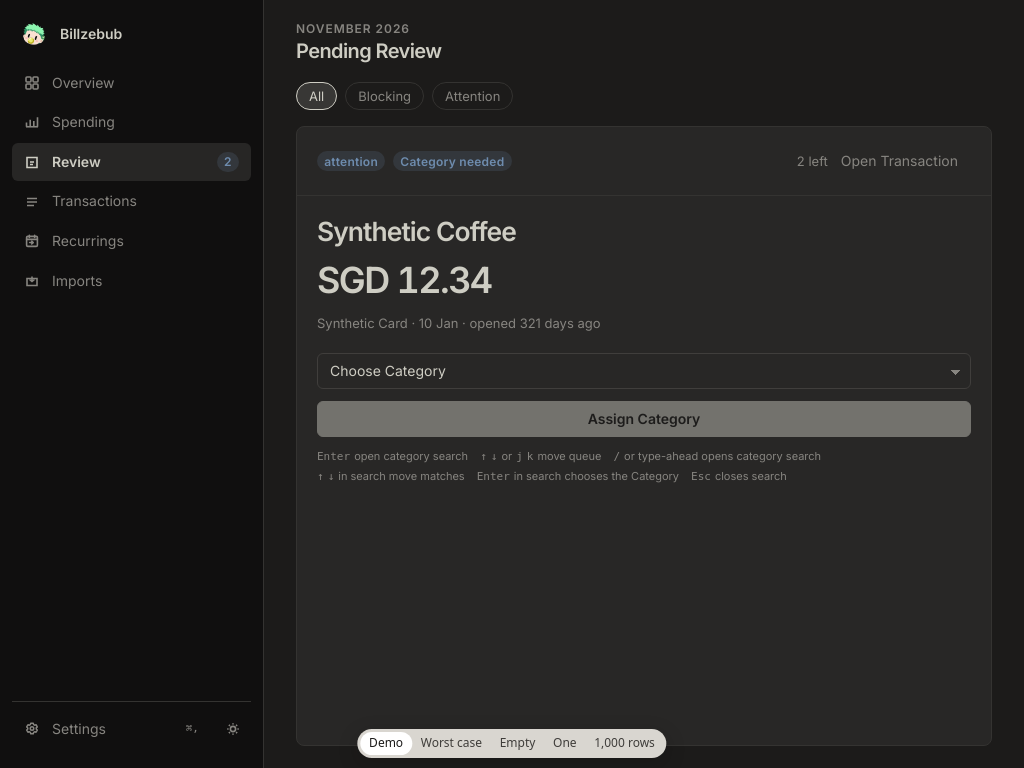
Test: App › advances to the next categorization Review after assign
Expected: the heading "Synthetic Coffee" is shown, [317,215,516,247]
What coordinates should you click on to do the following:
click the button named "Category for Synthetic Coffee"
I would click on:
 (388, 370)
Its box is [317,353,971,389].
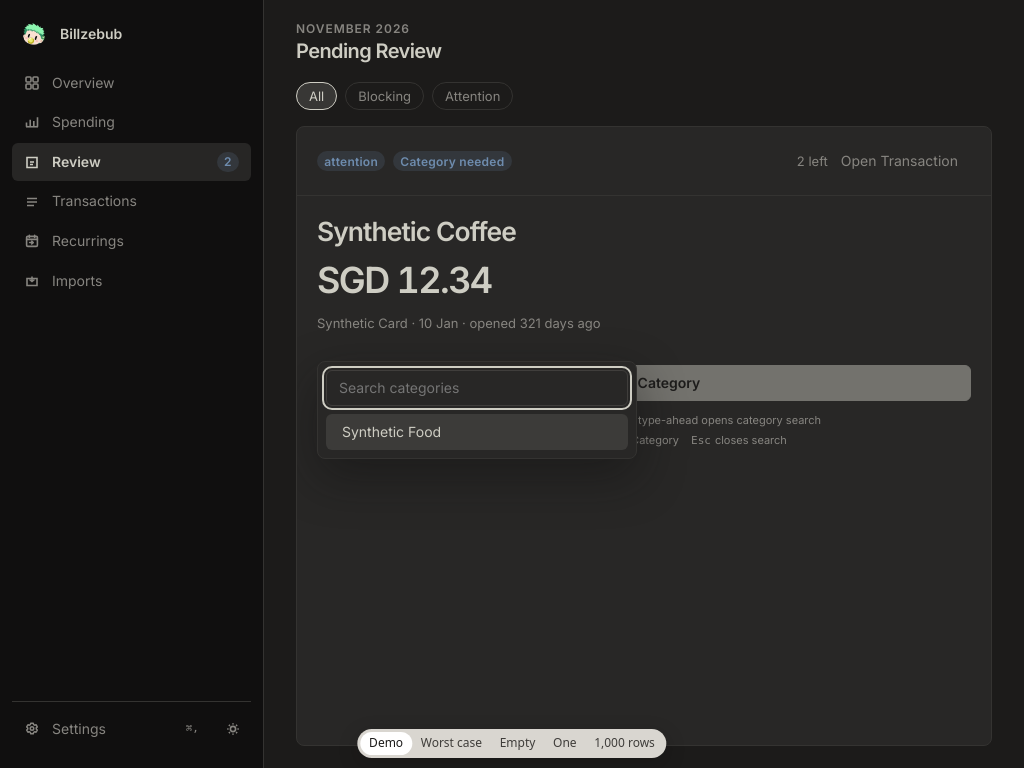
What coordinates should you click on to do the following:
click the option "Synthetic Food"
I would click on:
 (392, 431)
Its box is [326,414,628,450].
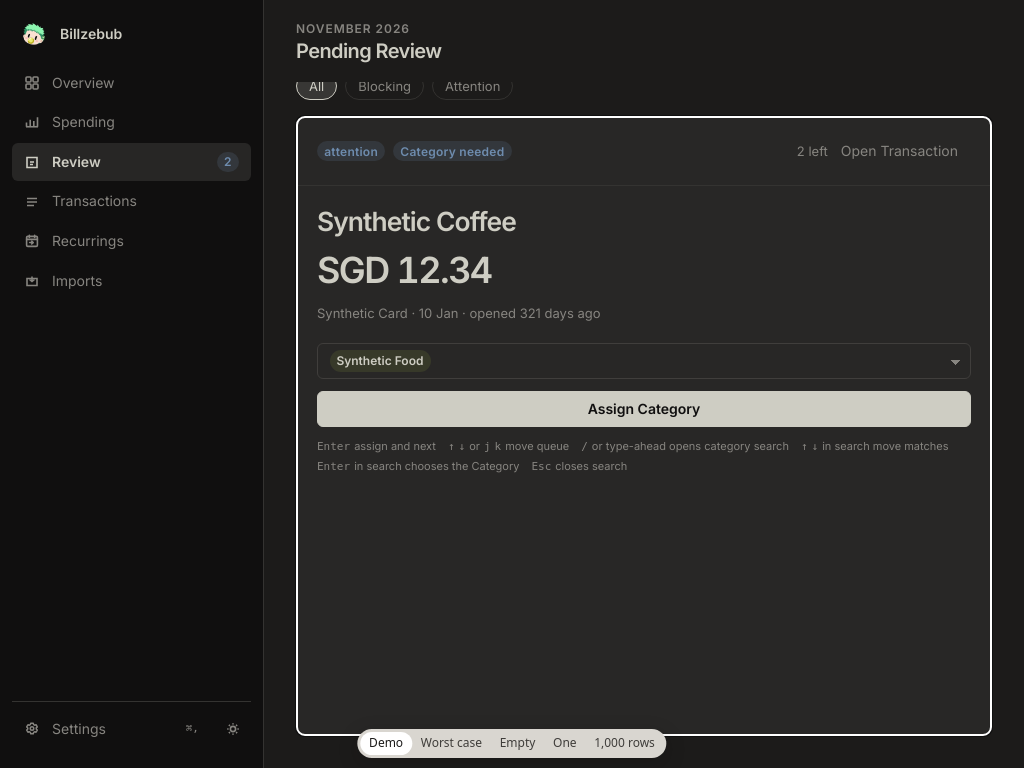
What coordinates should you click on to do the following:
click the button "Assign Category"
I would click on:
 (644, 409)
Its box is [317,391,971,427].
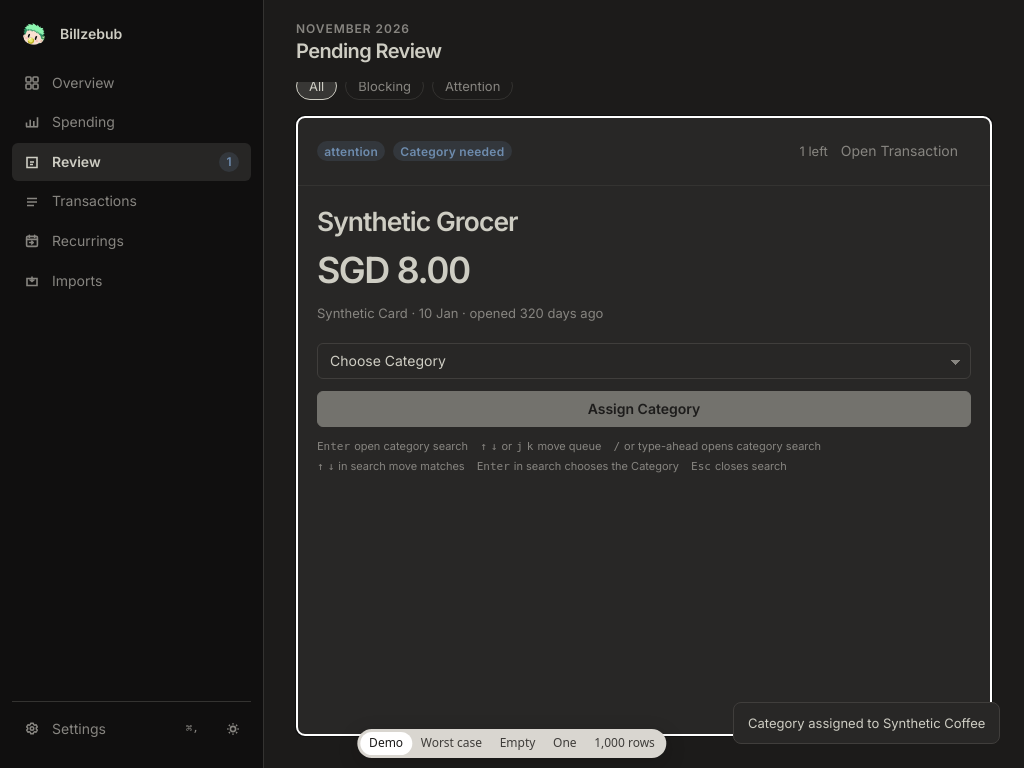
Expected: the heading "Synthetic Grocer" is shown, [317,205,518,237]
Expected: the button named "Category for Synthetic Grocer" reads "Choose Category", [317,343,971,379]
